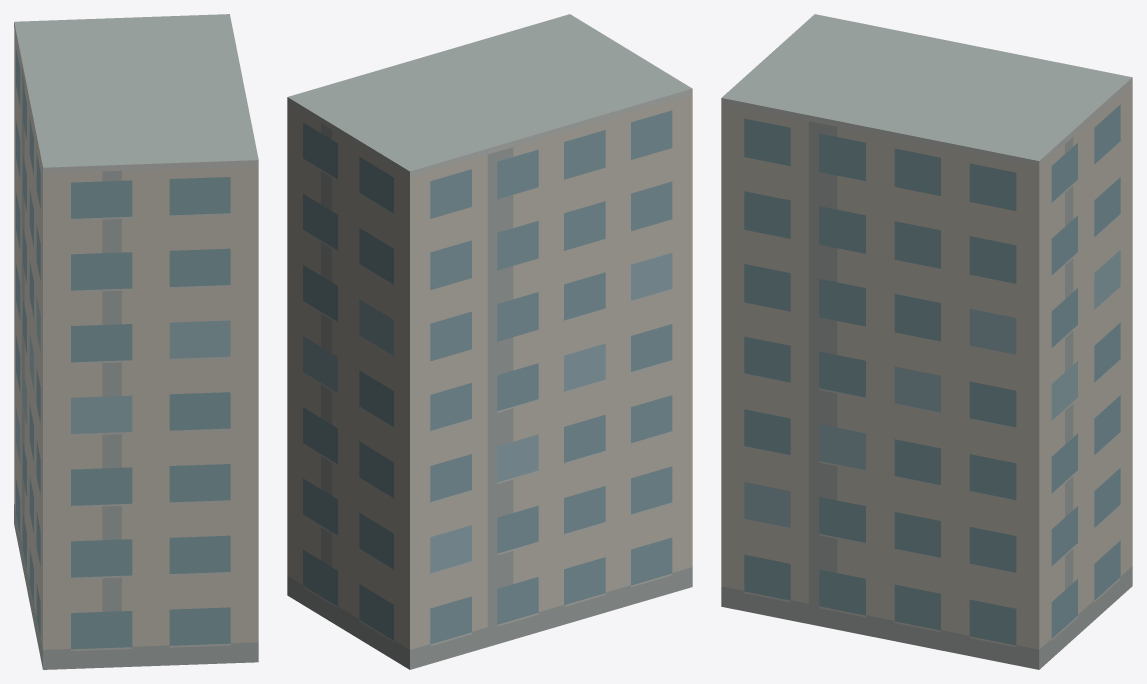
Rendered from survey-upis-32632949.glb.
3 renders of one model, left to right at view 1: azimuth 30°, elevation 25°; view 2: azimuth 150°, elevation 25°; view 3: azimuth 270°, elevation 25°, orthographic. The views are drawn at different scales.
Parts seen in each view (by area): view 1: survey-upis-32632949.tmp; view 2: survey-upis-32632949.tmp; view 3: survey-upis-32632949.tmp.
Part boxes in pixels (x1,y1,x2,y2): survey-upis-32632949.tmp: (14, 14, 258, 669); survey-upis-32632949.tmp: (287, 14, 692, 669); survey-upis-32632949.tmp: (721, 14, 1132, 669).
Bounding box in the file's own units: 12.91 × 20.8 × 15.24.
